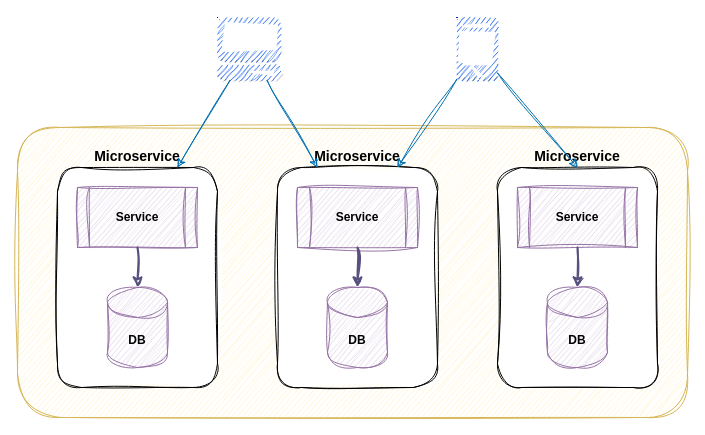
The diagram is 705 pixels wide and 435 high, and some of its shapes have lost their labels. Here are the shapes that lost their labels. From the top down, the box of each, then its label:
(216, 16, 280, 80): Web
(456, 16, 498, 80): Mobile
